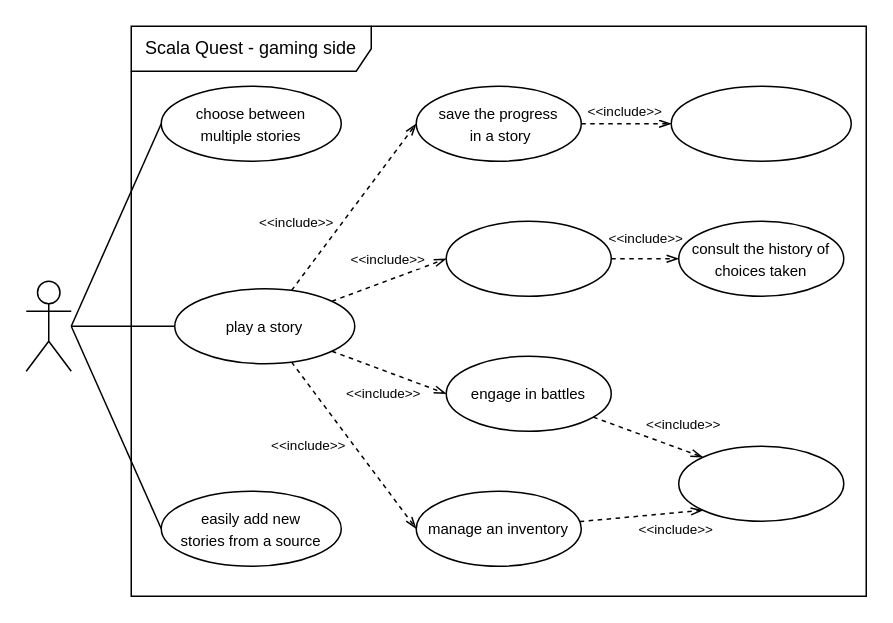
Image size: 893x623. Some labels were removed from this diagram. Here are the shapes that lost their labels. From the top down, the box of each, then its label:
(670, 85, 851, 161): play a story using saved progress
(445, 220, 611, 296): navigate a story taking choices
(25, 280, 71, 371): User
(677, 445, 844, 521): use items
